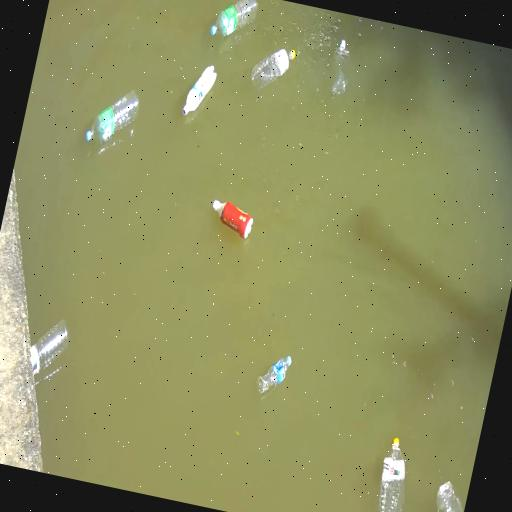plastic: (85, 91, 138, 141), (30, 320, 67, 375), (378, 437, 404, 511), (250, 49, 295, 89), (210, 0, 257, 36), (182, 66, 216, 115), (212, 201, 252, 239), (256, 356, 291, 393), (331, 40, 348, 94), (436, 482, 462, 511)
